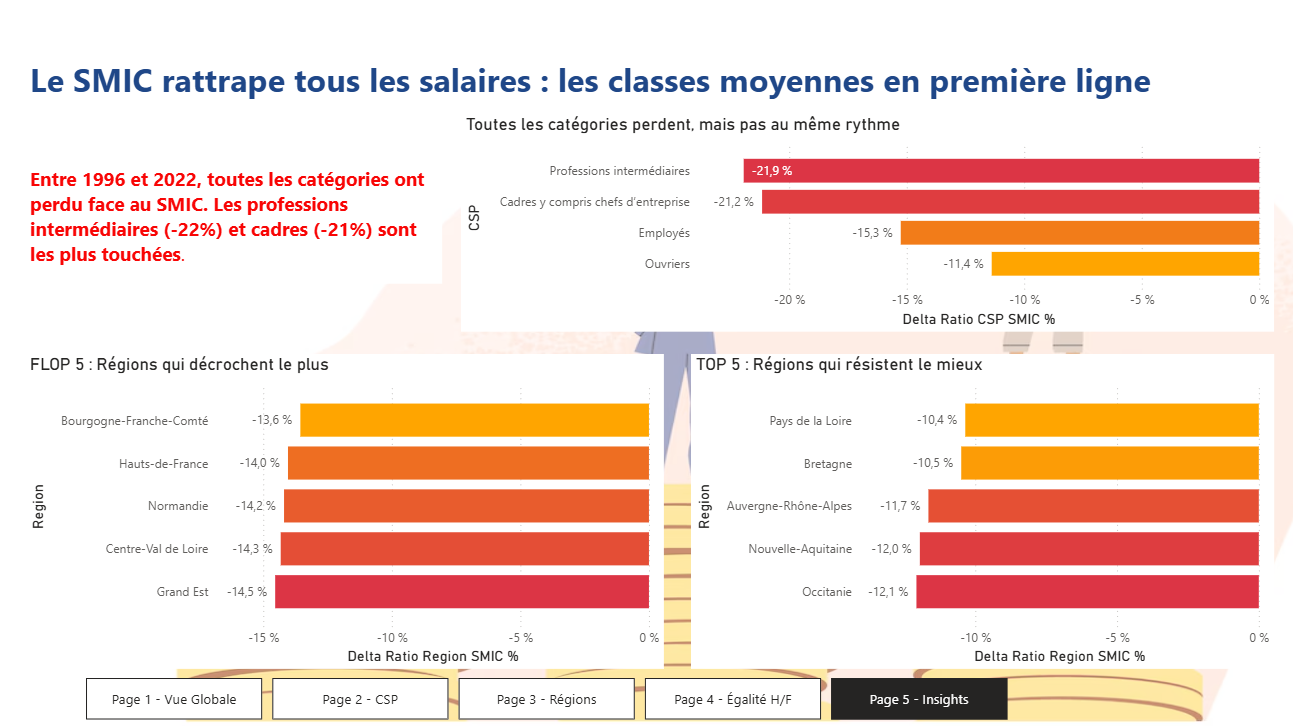

The page's visual inventory and layout, read from the dashboard file:
{"tool":"powerbi","page":{"name":"Page 5 - Insights","canvas":[1280,720],"ordinal":4},"visuals":[{"type":"textbox","box":[25.5,34.4,1234.5,79.9],"z":0},{"type":"clusteredBarChart","title":"Toutes les catégories perdent, mais pas au même rythme","fields":{"Category":["Dim_CSP.Libelle"],"Y":["_Measure.Delta Ratio CSP SMIC %"]},"box":[456.2,113.8,803.4,215],"z":1000},{"type":"clusteredBarChart","title":"TOP 5 : Régions qui résistent le mieux","fields":{"Category":["Dim_Region.Libelle"],"Y":["_Measure.Delta Ratio Region SMIC %"]},"box":[683.8,350.2,575.8,311.2],"z":2000},{"type":"clusteredBarChart","title":"FLOP 5 : Régions qui décrochent le plus","fields":{"Category":["Dim_Region.Libelle"],"Y":["_Measure.Delta Ratio Region SMIC %"]},"box":[25.3,350.2,631.2,311.2],"z":3000},{"type":"textbox","box":[25.3,142,412.4,139.1],"z":4000},{"type":"pageNavigator","box":[85.6,670.2,913.3,41.8],"z":4001}]}

Visuals, with their boxes in screenshot pixels (x1, y1, x2, y2), scaled from the page's 1280x720 canvas onto the 1293x726 screenshot:
textbox: 26:35:1273:115
"Toutes les catégories perdent, mais pas au même rythme" clusteredBarChart: 461:115:1272:332
"TOP 5 : Régions qui résistent le mieux" clusteredBarChart: 691:353:1272:667
"FLOP 5 : Régions qui décrochent le plus" clusteredBarChart: 26:353:663:667
textbox: 26:143:442:283
pageNavigator: 86:676:1009:718
